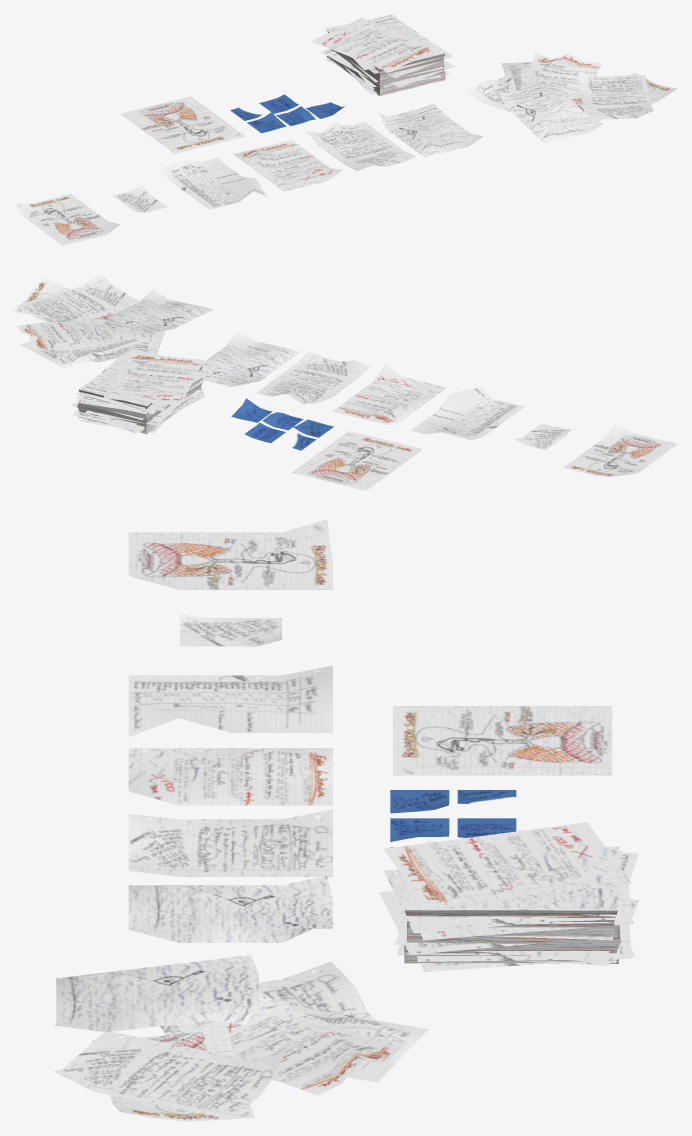
File: papers.glb
3 views of the same model, one above another, from view 1: azimuth 30°, elevation 25°; view 2: azimuth 150°, elevation 25°; view 3: azimuth 270°, elevation 25° (orthographic). The views are drawn at different scales.
Parts seen in each view (by area): view 1: SM_PapersCluster_7, SM_PaperStack_13, SM_FlatPaper_0, SM_Papers_03_3, SM_Papers_05_5, SM_Papers_06_6, SM_Papers_04_4, SM_Papers_01_1, SM_Papers_02_2, SM_StickyNote_02_8, SM_StickyNote_03_10, SM_StickyNote_04_11 (+1 smaller); view 2: SM_PapersCluster_7, SM_PaperStack_13, SM_FlatPaper_0, SM_Papers_04_4, SM_Papers_03_3, SM_Papers_05_5, SM_Papers_01_1, SM_Papers_06_6, SM_Papers_02_2, SM_StickyNote_05_12, SM_StickyNote_04_11, SM_StickyNote_03_10 (+1 smaller); view 3: SM_PapersCluster_7, SM_PaperStack_13, SM_FlatPaper_0, SM_Papers_05_5, SM_Papers_01_1, SM_Papers_03_3, SM_Papers_04_4, SM_Papers_06_6, SM_Papers_02_2, SM_StickyNote_02_8, SM_StickyNote_03_10, SM_StickyNote_04_11.
Boxes of the visible parts, x1,y1,x2,y2 form: SM_PapersCluster_7: [465, 52, 677, 143]; SM_PaperStack_13: [311, 14, 455, 95]; SM_FlatPaper_0: [120, 96, 245, 153]; SM_Papers_03_3: [158, 158, 267, 209]; SM_Papers_05_5: [306, 122, 415, 170]; SM_Papers_06_6: [379, 103, 483, 157]; SM_Papers_04_4: [233, 140, 342, 191]; SM_Papers_01_1: [14, 194, 119, 245]; SM_Papers_02_2: [113, 185, 167, 212]; SM_StickyNote_02_8: [247, 112, 286, 133]; SM_StickyNote_03_10: [276, 106, 315, 126]; SM_StickyNote_04_11: [259, 94, 298, 113]; SM_PapersCluster_7: [14, 274, 213, 368]; SM_PaperStack_13: [71, 349, 207, 433]; SM_FlatPaper_0: [292, 431, 422, 490]; SM_Papers_04_4: [332, 365, 446, 426]; SM_Papers_03_3: [410, 387, 524, 440]; SM_Papers_05_5: [256, 351, 370, 404]; SM_Papers_01_1: [563, 424, 677, 476]; SM_Papers_06_6: [201, 330, 299, 386]; SM_Papers_02_2: [515, 423, 571, 450]; SM_StickyNote_05_12: [231, 398, 272, 422]; SM_StickyNote_04_11: [245, 423, 285, 443]; SM_StickyNote_03_10: [262, 412, 303, 430]; SM_PapersCluster_7: [53, 954, 428, 1121]; SM_PaperStack_13: [379, 822, 638, 971]; SM_FlatPaper_0: [393, 706, 612, 775]; SM_Papers_05_5: [128, 809, 332, 876]; SM_Papers_01_1: [128, 519, 332, 589]; SM_Papers_03_3: [128, 665, 332, 736]; SM_Papers_04_4: [128, 748, 332, 805]; SM_Papers_06_6: [128, 875, 332, 942]; SM_Papers_02_2: [180, 614, 281, 646]; SM_StickyNote_02_8: [390, 790, 449, 813]; SM_StickyNote_03_10: [390, 818, 449, 841]; SM_StickyNote_04_11: [457, 818, 516, 837].
Size of the model in its own units: 1.8 by 0.0971 by 0.7454.
Materials: 1 (1 with a texture image).
